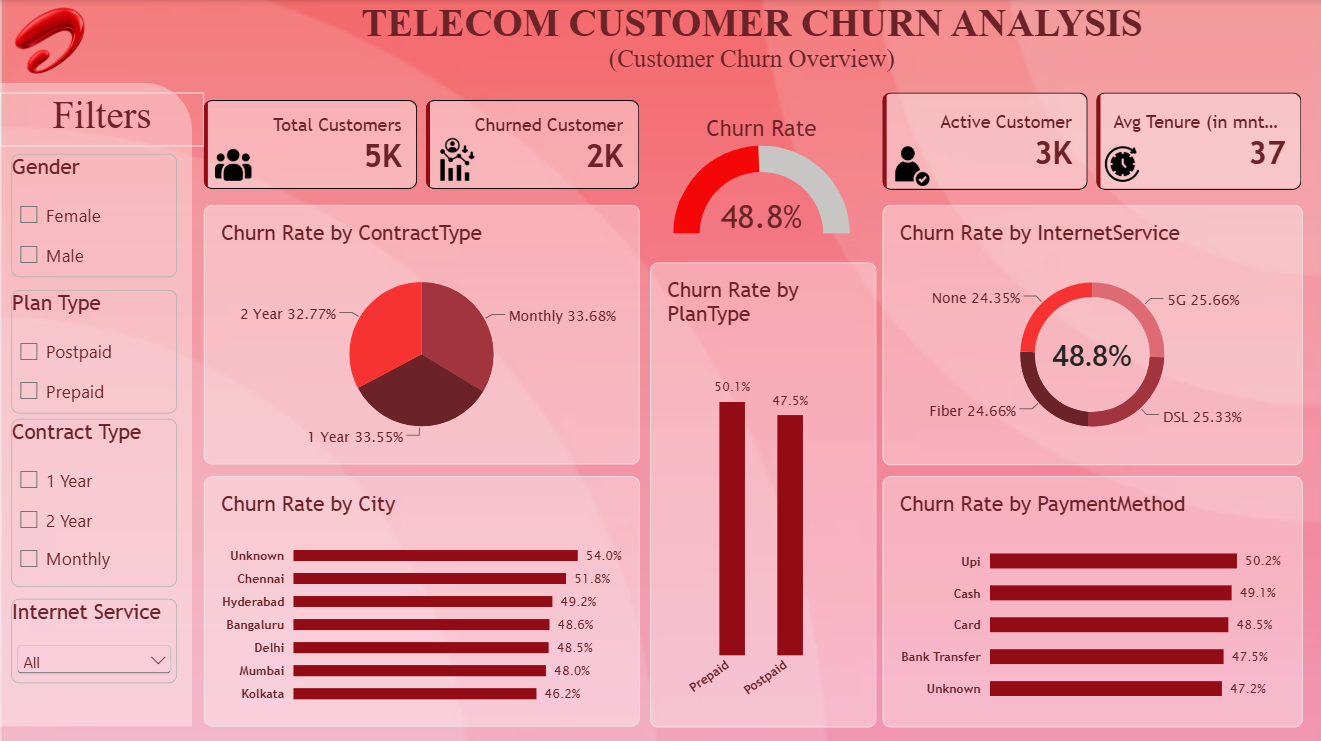

The page's visual inventory and layout, read from the dashboard file:
{"tool":"powerbi","page":{"name":"OverView","canvas":[1280,720],"ordinal":1},"visuals":[{"type":"textbox","box":[171.6,0,1108.6,73.7],"z":0},{"type":"pieChart","fields":{"Category":["Telecom_Data.ContractType"],"Y":["Measures (2).Churn Rate"]},"box":[197.1,198.3,420.8,250.5],"z":1000},{"type":"columnChart","fields":{"Y":["Measures (2).Churn Rate"],"Category":["Telecom_Data.PlanType"]},"box":[626.8,253,218.7,448.8],"z":2000},{"type":"donutChart","fields":{"Category":["Telecom_Data.InternetService"],"Y":["Measures (2).Churn Rate"]},"box":[851.8,198.3,405.6,226.3],"z":3000},{"type":"barChart","fields":{"Y":["Measures (2).Churn Rate"],"Category":["Telecom_Data.PaymentMethod"]},"box":[851.8,433.5,405.6,268.3],"z":4000},{"type":"barChart","fields":{"Y":["Measures (2).Churn Rate"],"Category":["Telecom_Data.City"]},"box":[197.1,460.2,420.8,241.6],"z":5000},{"type":"shape","box":[0,80.1,185.6,621.7],"z":6000},{"type":"textbox","box":[0,89.6,196.6,51],"z":7000},{"type":"slicer","title":"Gender","fields":{"Values":["Telecom_Data.Gender"]},"box":[11.4,148.7,160.2,119.5],"z":8000},{"type":"slicer","title":"Plan Type","fields":{"Values":["Telecom_Data.PlanType"]},"box":[11.4,279.7,160.2,119.5],"z":9000},{"type":"slicer","title":"Contract Type","fields":{"Values":["Telecom_Data.ContractType"]},"box":[11.4,404.3,160.2,162.7],"z":10000},{"type":"slicer","title":"Internet Service","fields":{"Values":["Telecom_Data.InternetService"]},"box":[11.4,578.5,160.2,81.4],"z":11000},{"type":"gauge","fields":{"Y":["Measures (2).Churn Rate"]},"box":[625.5,96.6,220,145],"z":13000},{"type":"cardVisual","fields":{"Data":["Measures (2).Total Customers","Measures (2).Churned Customer"]},"box":[197.1,96.6,420.8,86.5],"z":14000},{"type":"cardVisual","fields":{"Data":["Measures (2).Active Customer","Measures (2).Avg Tenure (in mnths)"]},"box":[851.8,89,405.6,94.1],"z":15000},{"type":"image","box":[207.2,134.8,35.6,48.3],"z":16000},{"type":"image","box":[419.5,124.6,43.2,58.5],"z":17000},{"type":"image","box":[860.7,141.1,40.7,38.1],"z":18000},{"type":"image","box":[1064.1,141.1,38.1,34.3],"z":19000},{"type":"image","box":[0,6.2,94.6,67.2],"z":19002}]}

Visuals, with their boxes in screenshot pixels (x1, y1, x2, y2), scaled from the page's 1280x720 canvas onto the 1321x741 screenshot:
textbox: [177, 0, 1320, 76]
pieChart - Telecom_Data.ContractType x Measures (2).Churn Rate: [203, 204, 638, 462]
columnChart - Measures (2).Churn Rate x Telecom_Data.PlanType: [647, 260, 873, 722]
donutChart - Telecom_Data.InternetService x Measures (2).Churn Rate: [879, 204, 1298, 437]
barChart - Measures (2).Churn Rate x Telecom_Data.PaymentMethod: [879, 446, 1298, 722]
barChart - Measures (2).Churn Rate x Telecom_Data.City: [203, 474, 638, 722]
shape: [0, 82, 192, 722]
textbox: [0, 92, 203, 145]
"Gender" slicer: [12, 153, 177, 276]
"Plan Type" slicer: [12, 288, 177, 411]
"Contract Type" slicer: [12, 416, 177, 584]
"Internet Service" slicer: [12, 595, 177, 679]
gauge - Measures (2).Churn Rate: [646, 99, 873, 249]
cardVisual - Measures (2).Total Customers x Measures (2).Churned Customer: [203, 99, 638, 188]
cardVisual - Measures (2).Active Customer x Measures (2).Avg Tenure (in mnths): [879, 92, 1298, 188]
image: [214, 139, 251, 188]
image: [433, 128, 478, 188]
image: [888, 145, 930, 184]
image: [1098, 145, 1138, 181]
image: [0, 6, 98, 76]
